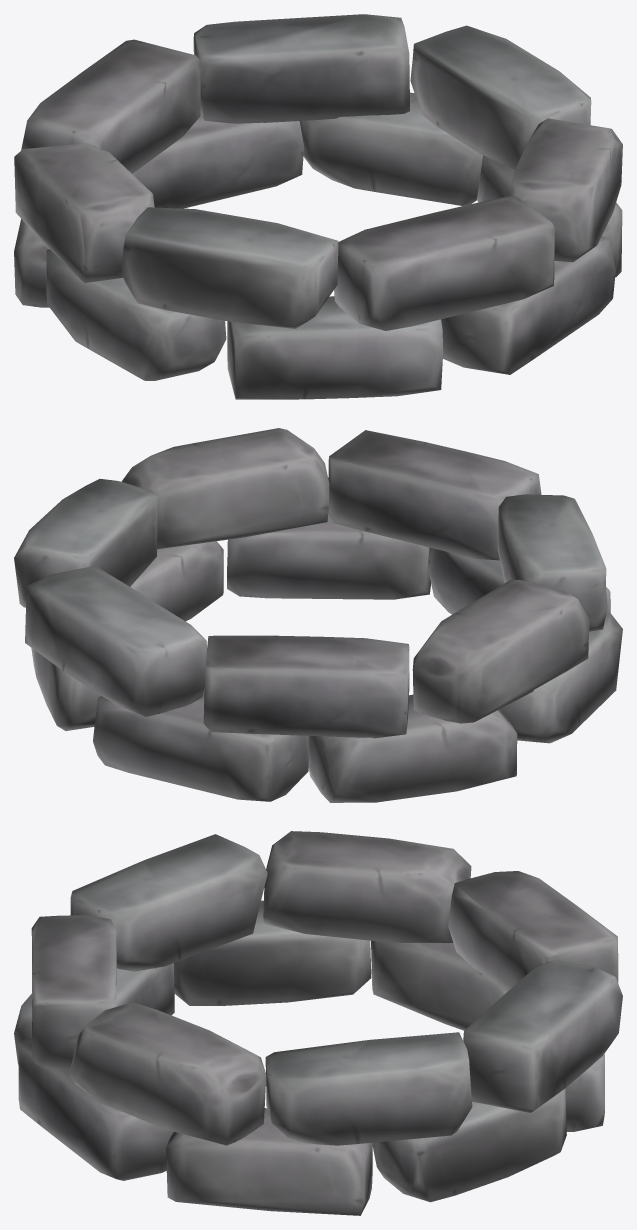
Rendered from SM_CampFireRing_Brick.obj.
The picture shows the model from 3 angles, top to bottom: view 1: azimuth 30°, elevation 25°; view 2: azimuth 150°, elevation 25°; view 3: azimuth 270°, elevation 25°; orthographic projection. The views are drawn at different scales.
Visible parts, largest first — view 1: SM_CampFireRing_Brick_MI_CampFire_Assets; view 2: SM_CampFireRing_Brick_MI_CampFire_Assets; view 3: SM_CampFireRing_Brick_MI_CampFire_Assets.
Part boxes in pixels (bbox=[...]): SM_CampFireRing_Brick_MI_CampFire_Assets: bbox=[14, 14, 622, 399]; SM_CampFireRing_Brick_MI_CampFire_Assets: bbox=[14, 428, 622, 802]; SM_CampFireRing_Brick_MI_CampFire_Assets: bbox=[14, 831, 622, 1215].
Size of the model in its own units: 1.12 by 0.2968 by 1.16.
1 material, 1 textured.
